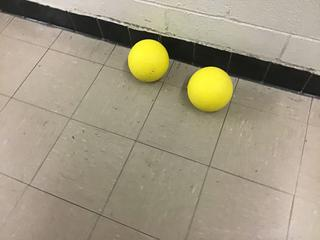power_cell: (185, 59, 236, 110), (128, 38, 174, 86)
